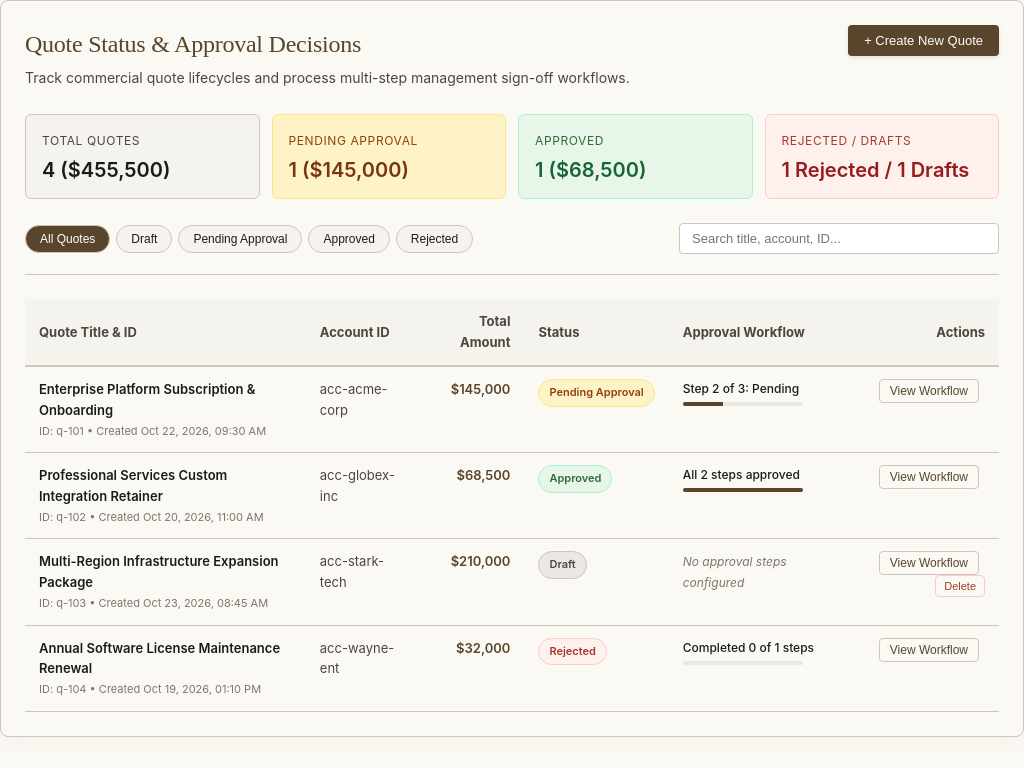
Test case: QuoteApprovalTable Component & Helper Utilities › Multi-Step Approval Sequence and Decision Actions › expands row to reveal multi-step approval workflow sequence
The image size is (1024, 768).
Click the button with test id "quote-approval-table-row-expand-btn-q-101": (929, 391) [879, 379, 979, 403]
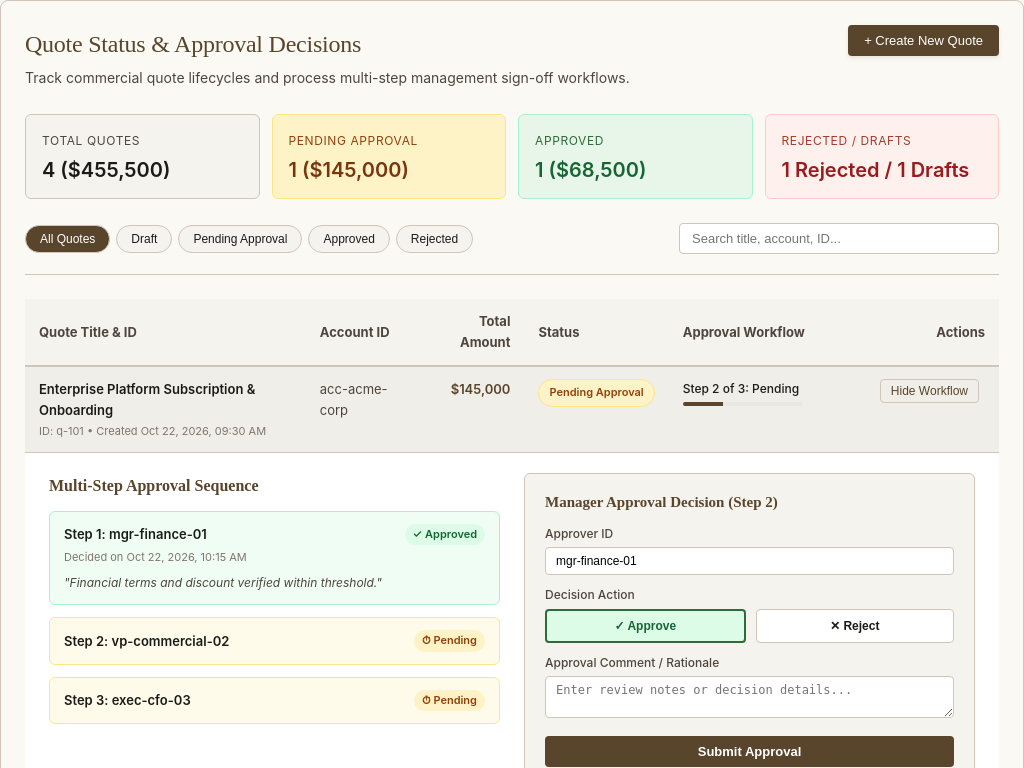
Expected: the heading "Multi-Step Approval Sequence" is shown, [49, 477, 258, 494]
Expected: the element with test id "quote-approval-table-step-step-101-1" shows "✓ Approved", [412, 527, 477, 541]
Expected: the element with test id "quote-approval-table-step-step-101-2" shows "⏱ Pending", [422, 633, 477, 647]
